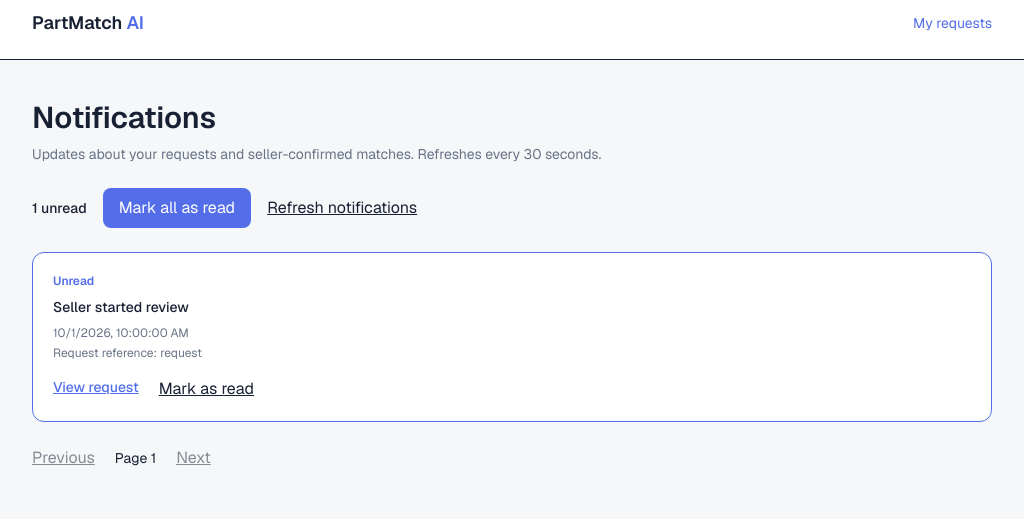
Test: keeps unread notifications available after a failed mark-read action
Expected: the text "1 unread" is shown, [32,198,87,218]
Click the button "Mark as read".
click(206, 389)  # box [159,377,254,401]
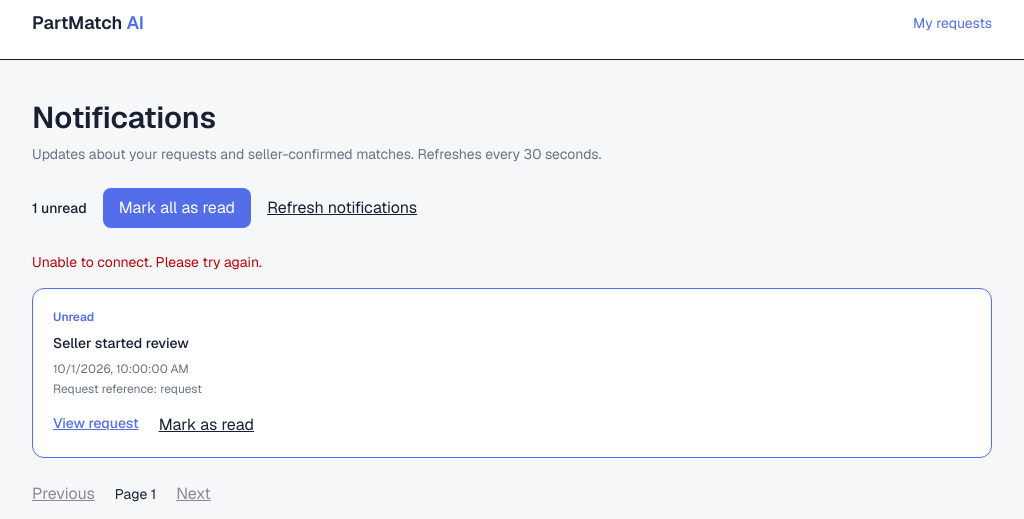
Expected: the text "1 unread" is shown, [32,198,87,218]
Result: the message shows "Unable to connect" at [32,253,262,271]
